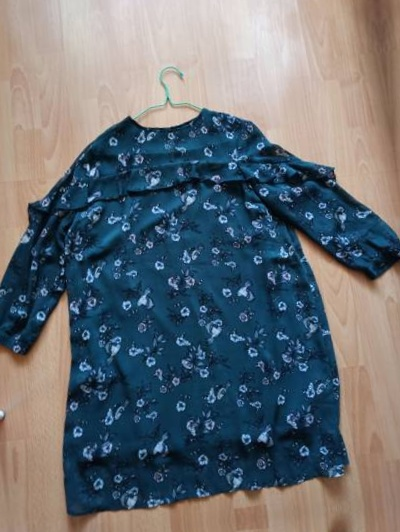Dress: (0, 65, 400, 532), (14, 513, 400, 532), (0, 114, 10, 532), (395, 15, 400, 481)
